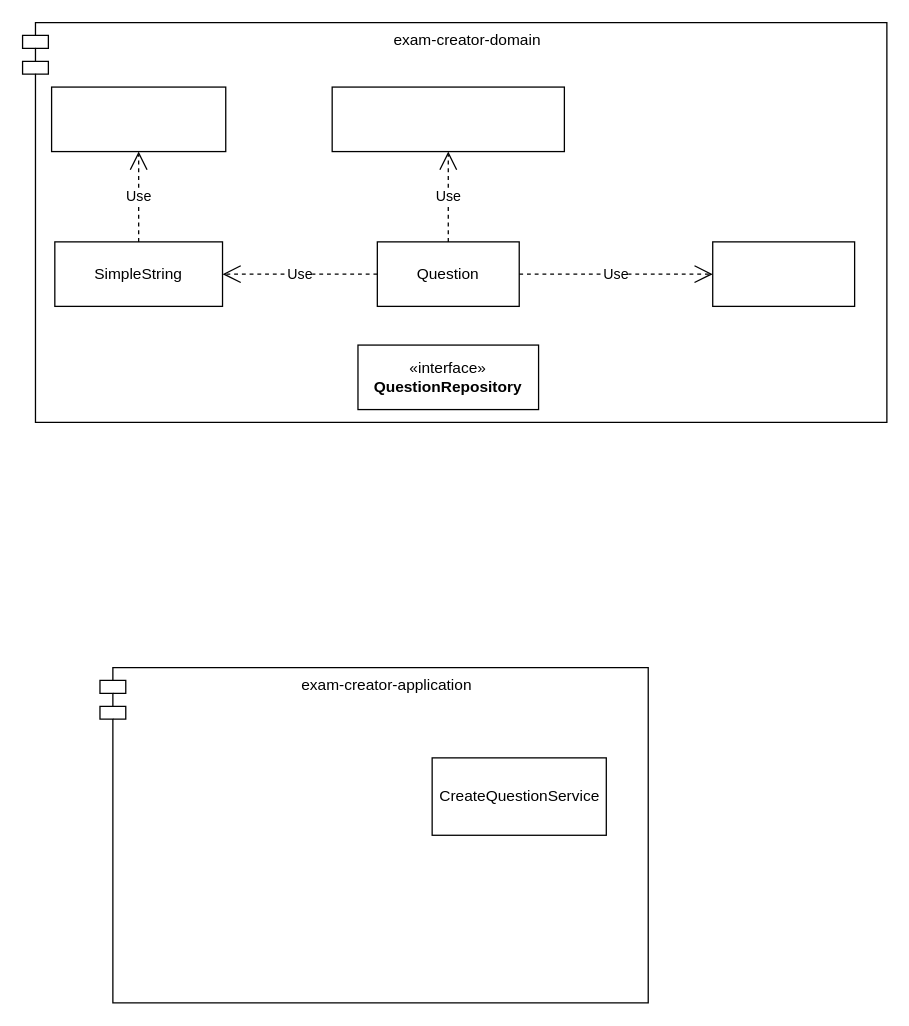
Some shapes in this 909 by 1026 pixel diagram are drawn without their labels. The centre of each missing label's shape, as x and y in pixels:
MissingQuestionTypeException: pixel 447 119
QuestionType: pixel 783 273
SimpleStringException: pixel 138 119
